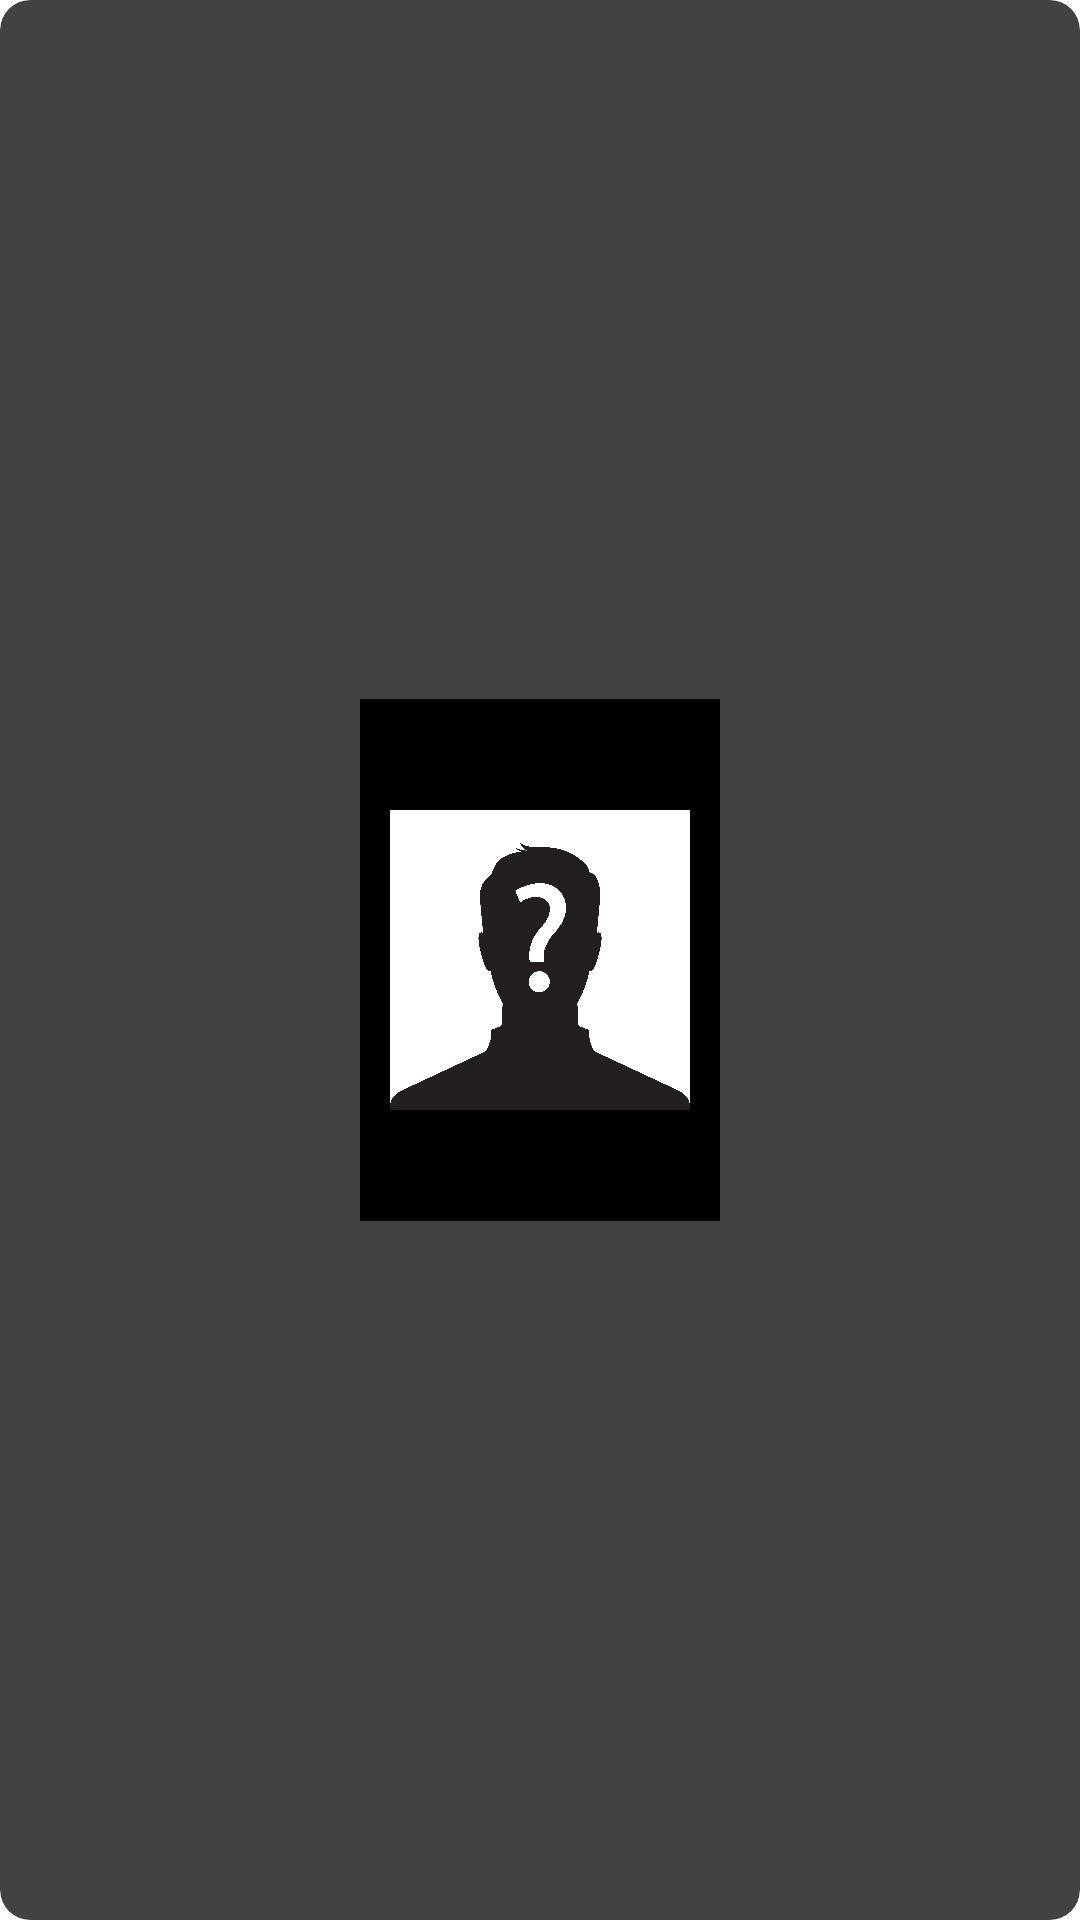

Icon bounding boxes for this 1080px×1920px phone screenshot, format [x1=x1, y1=y1, x2=x2, y2=y2]:
YOUR PHOTO: [x1=390, y1=810, x2=690, y2=1110]
